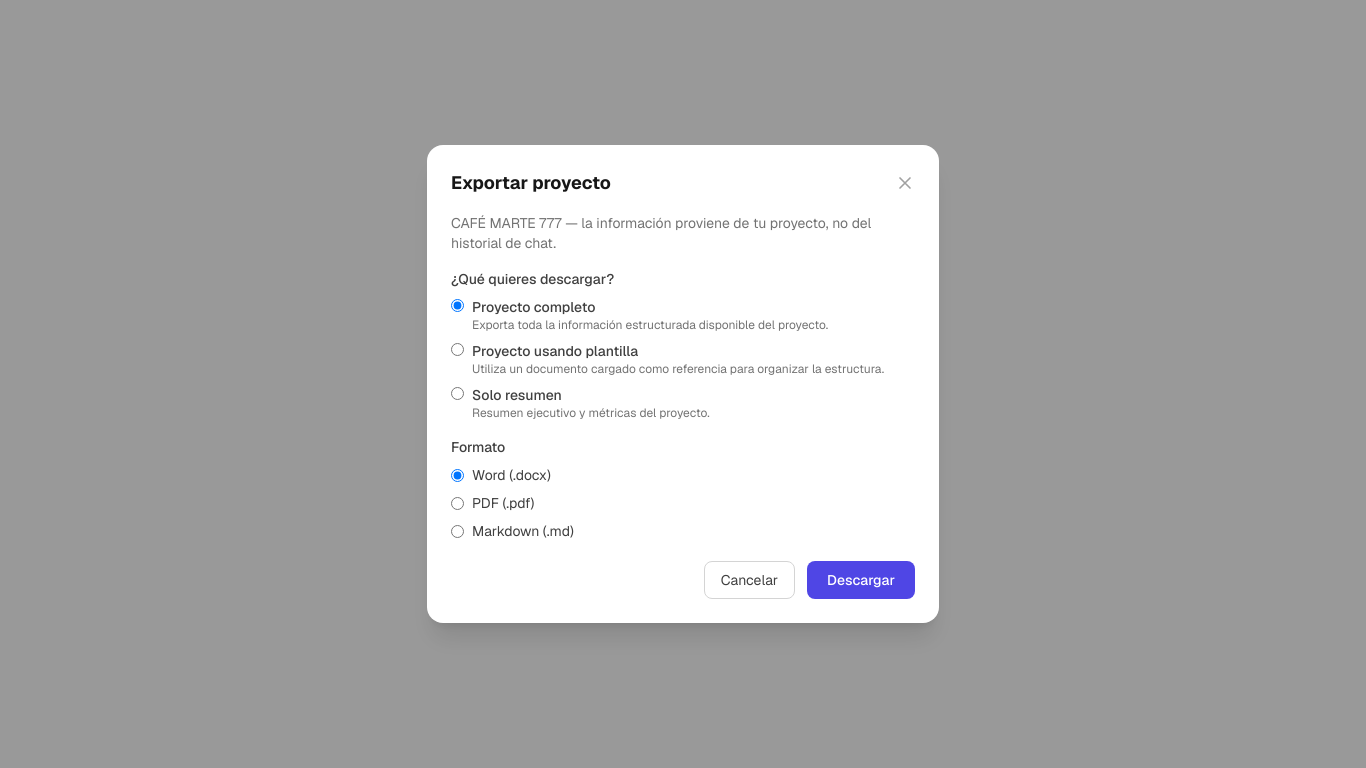
it: ExportProjectModal › muestra mensaje del backend si el documento no sirve como plantilla
Click the radio button labelled "Proyecto usando plantilla" at coordinates (458, 350), box top-left (451, 343), bottom-right (464, 356)
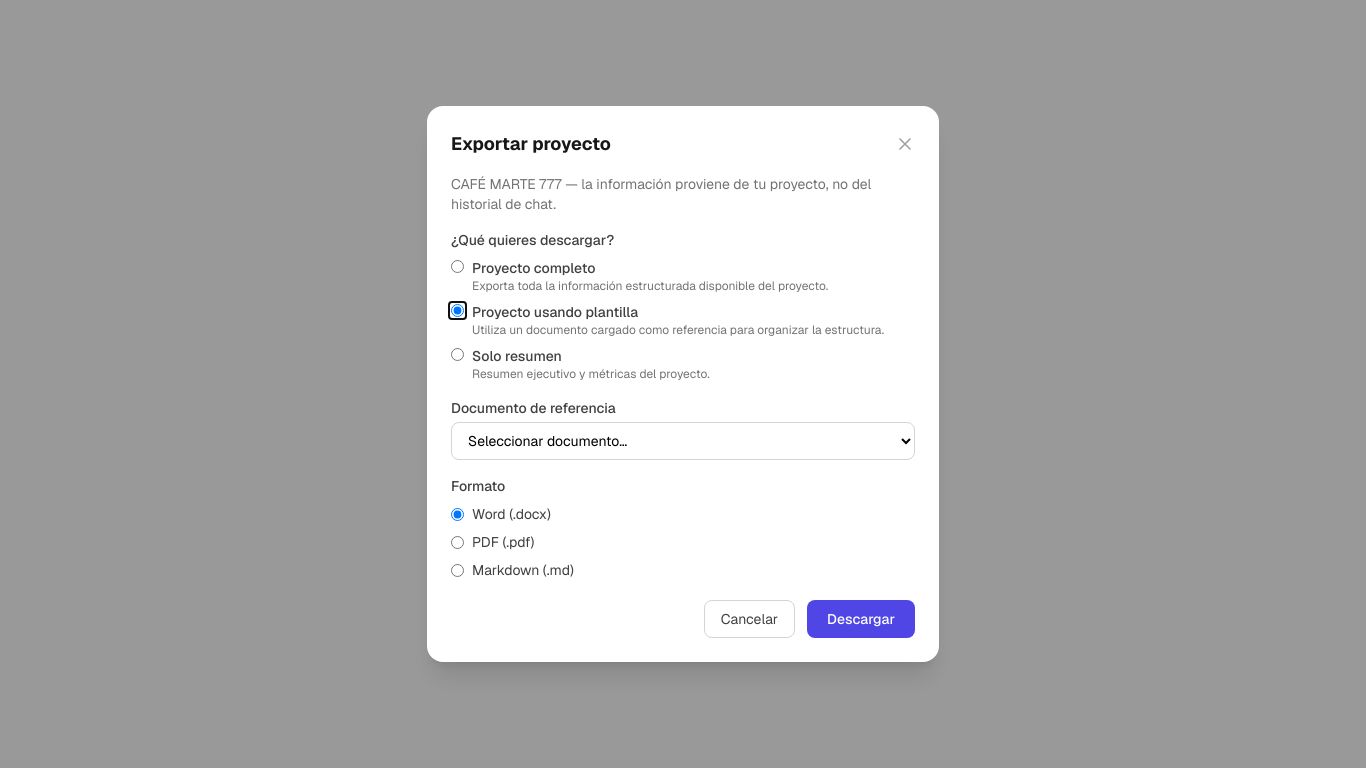
Select "📄 Plantilla SENA.docx" in the dropdown labelled "Documento de referencia" at coordinates (683, 441), box top-left (451, 422), bottom-right (915, 460)
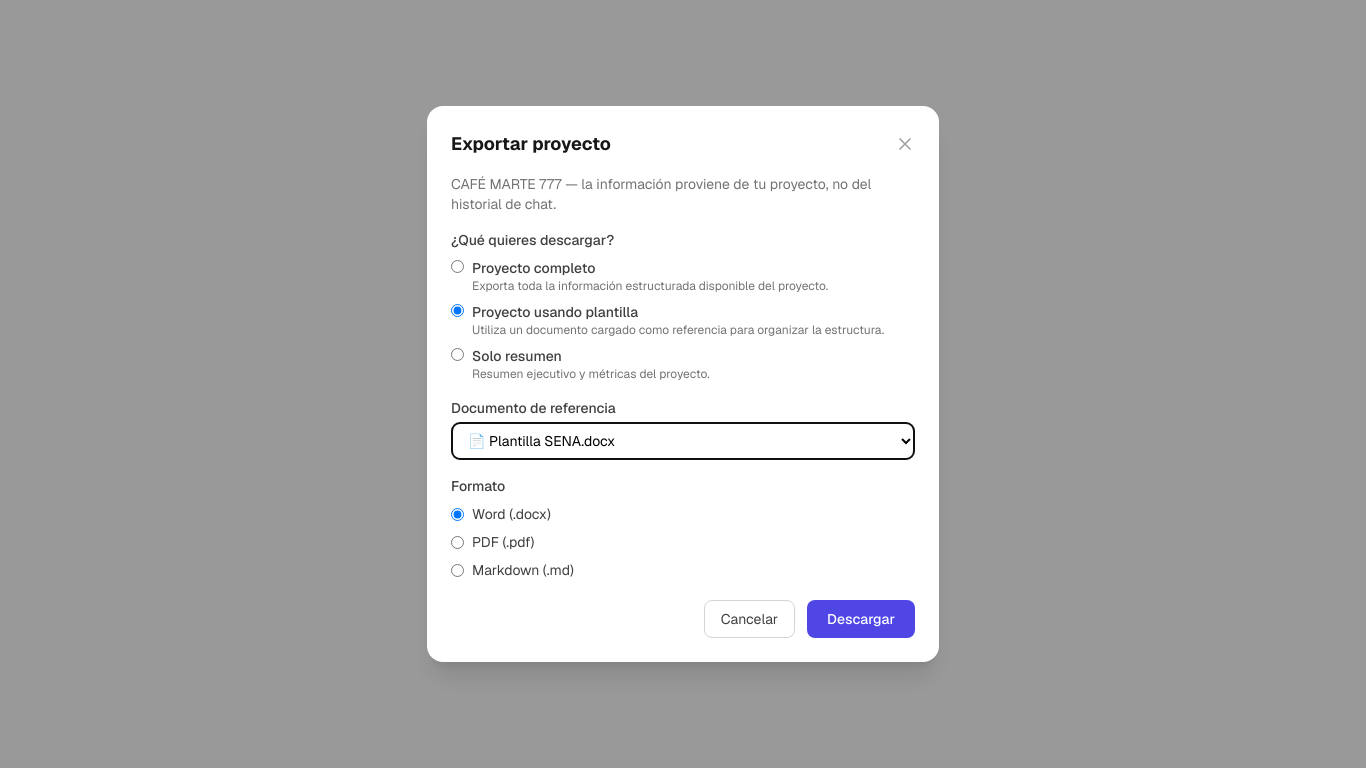
Click the button "Descargar" at coordinates (861, 619), box top-left (807, 600), bottom-right (915, 638)
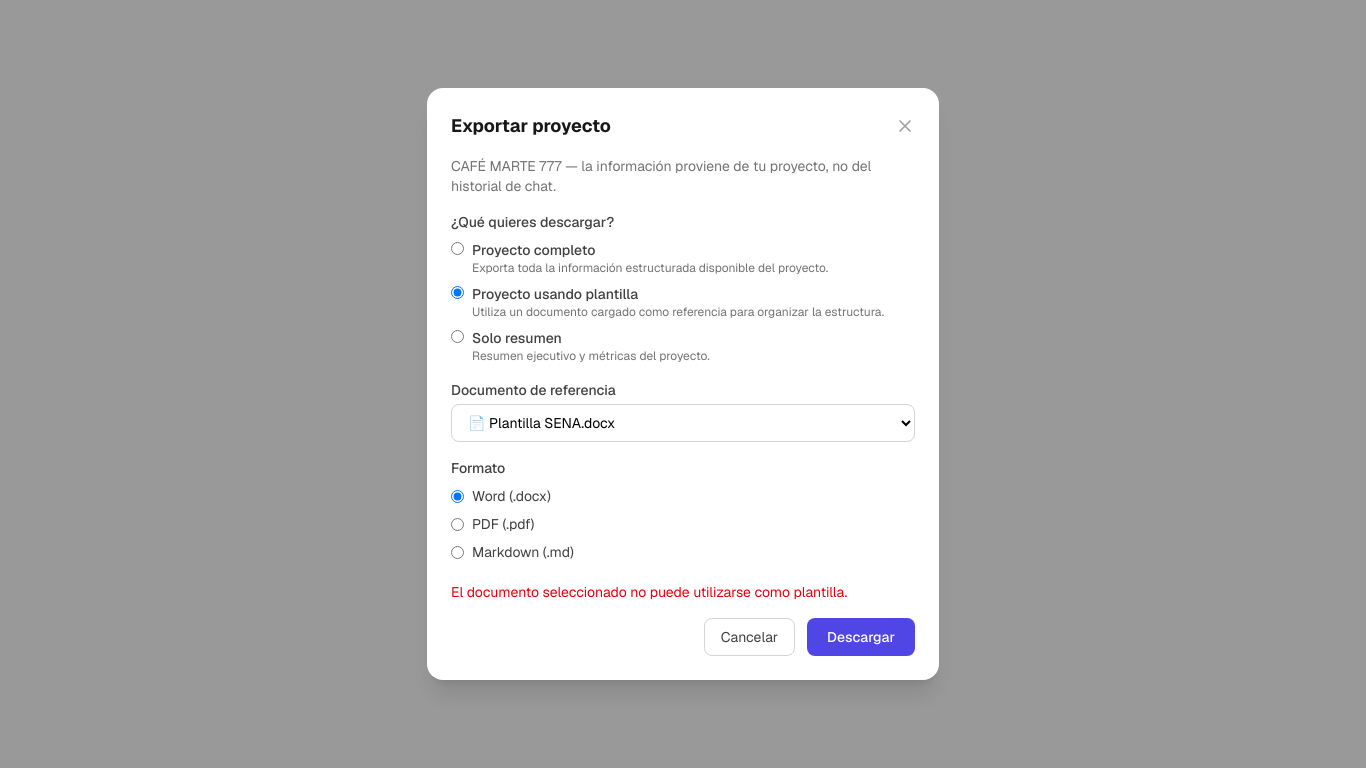
Now the text "El documento seleccionado no puede utilizarse como plantilla." is shown, box top-left (451, 582), bottom-right (915, 602)
